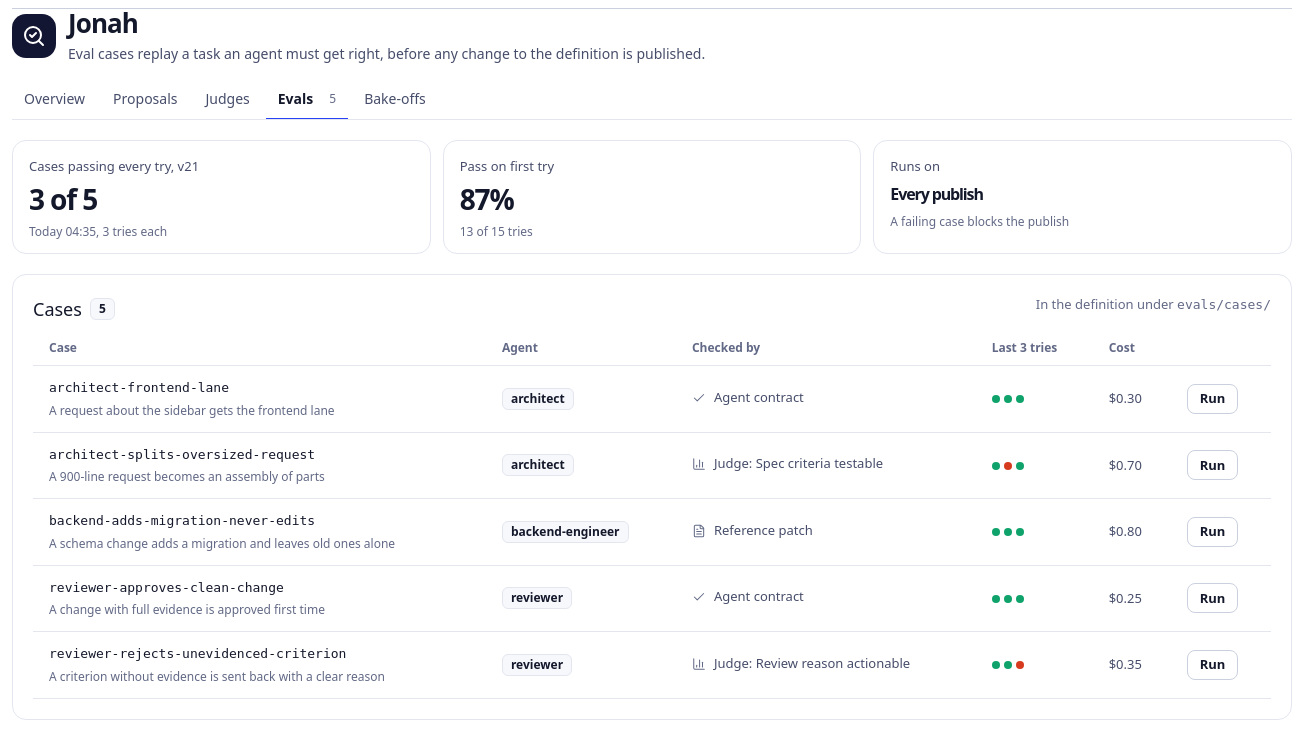
Test case: Run and Run all › shows a refused start in place and does not hide the cases
This screenshot has width=1292, height=735.
Expected: the table is shown, [33,339,1271,699]
Step 1. Click the button with aria-label "Run reviewer-approves-clean-change" → (1213, 598), box [1187,583,1238,613]
(page scrolled)
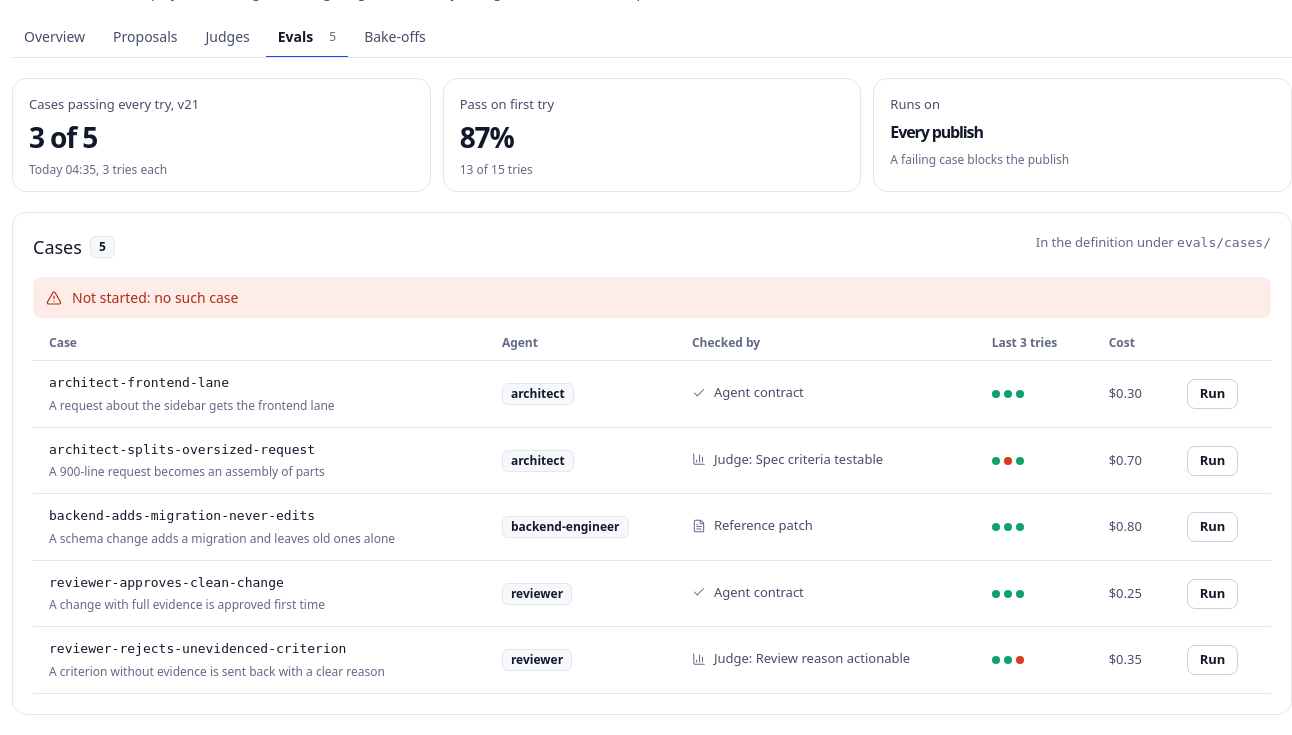
Expected: the table is shown, [33,334,1271,694]
Expected: the text "Not started: no such case" is shown, [72,288,238,308]
